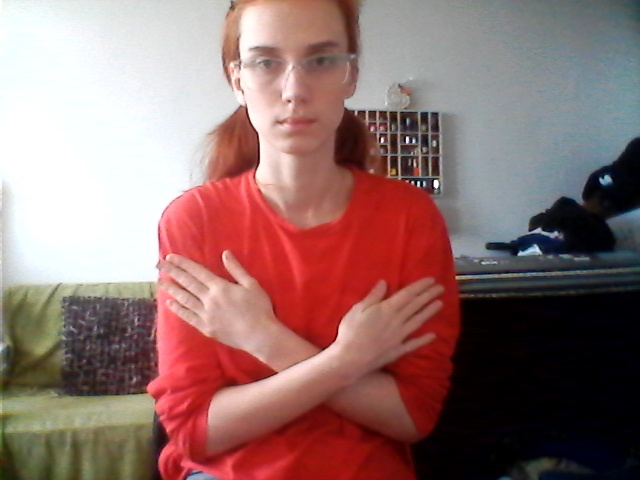z: (150, 243, 458, 456)
